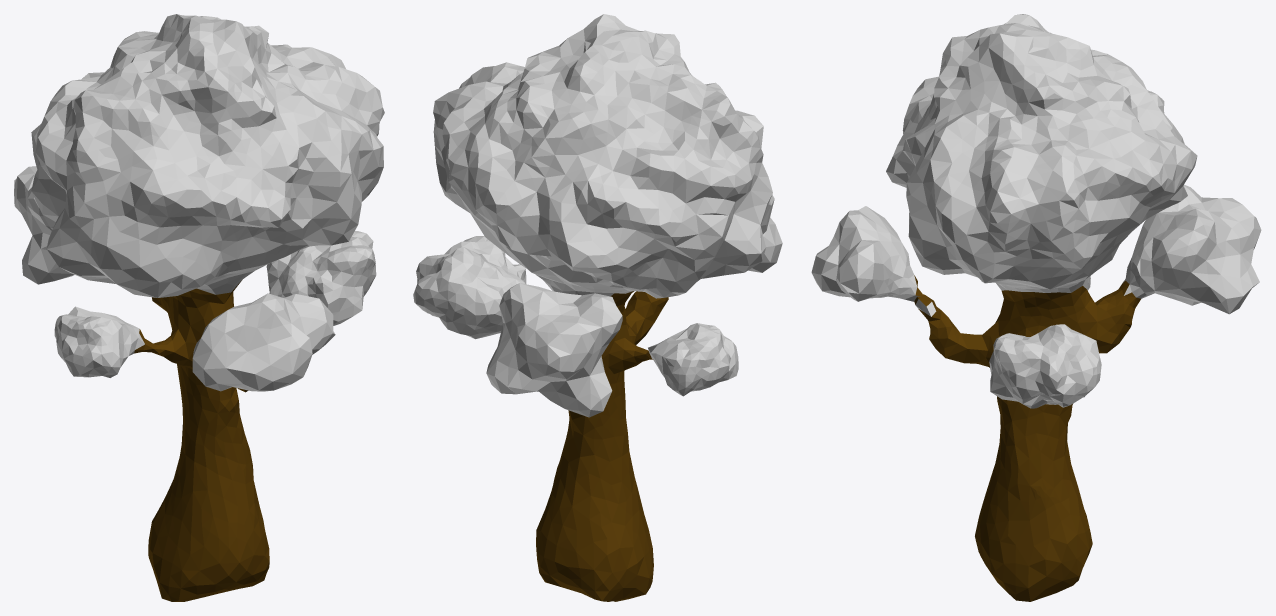
File: drvo5.dae
3 renders of one model, left to right at view 1: azimuth 30°, elevation 25°; view 2: azimuth 150°, elevation 25°; view 3: azimuth 270°, elevation 25°, orthographic. The views are drawn at different scales.
Visible parts, largest first — view 1: Cube; view 2: Cube; view 3: Cube.
Part boxes in pixels (left/top/right/bottom): Cube: left=14, top=14, right=384, bottom=601; Cube: left=413, top=14, right=782, bottom=601; Cube: left=811, top=14, right=1261, bottom=601.
Bounding box in the file's own units: 6.54 × 7.81 × 10.69.
